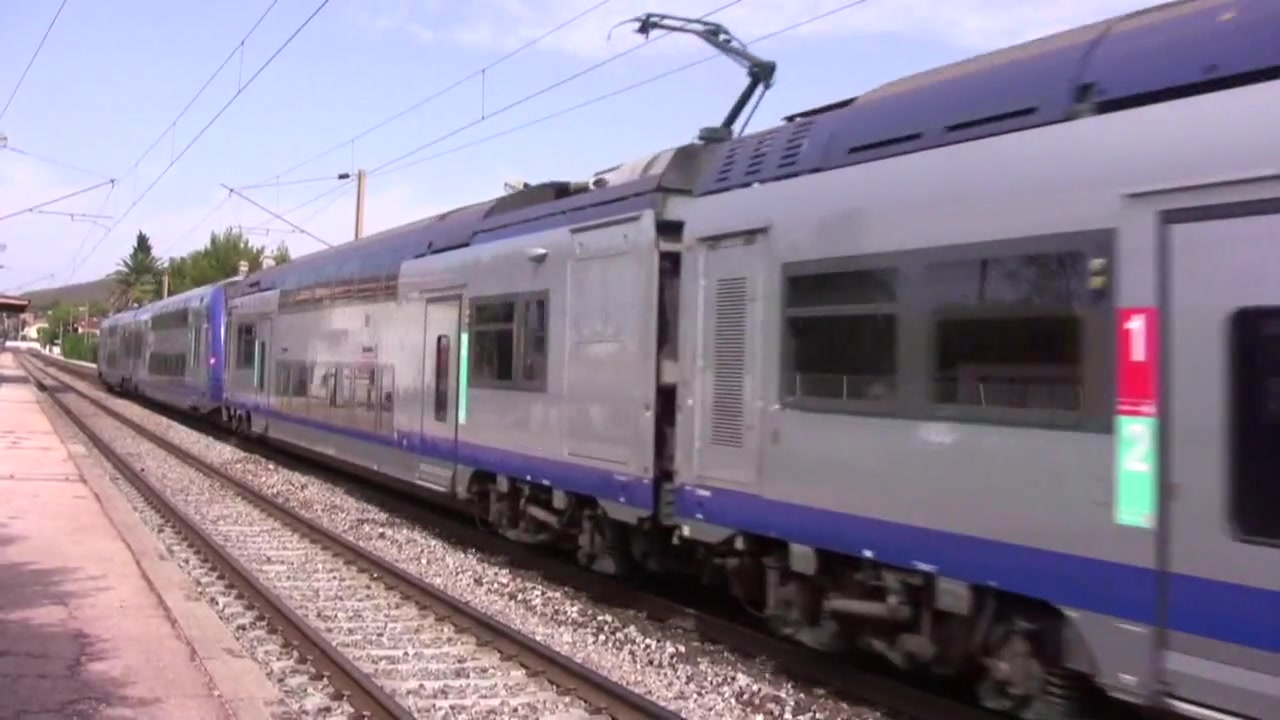train: (90, 1, 1280, 720)
